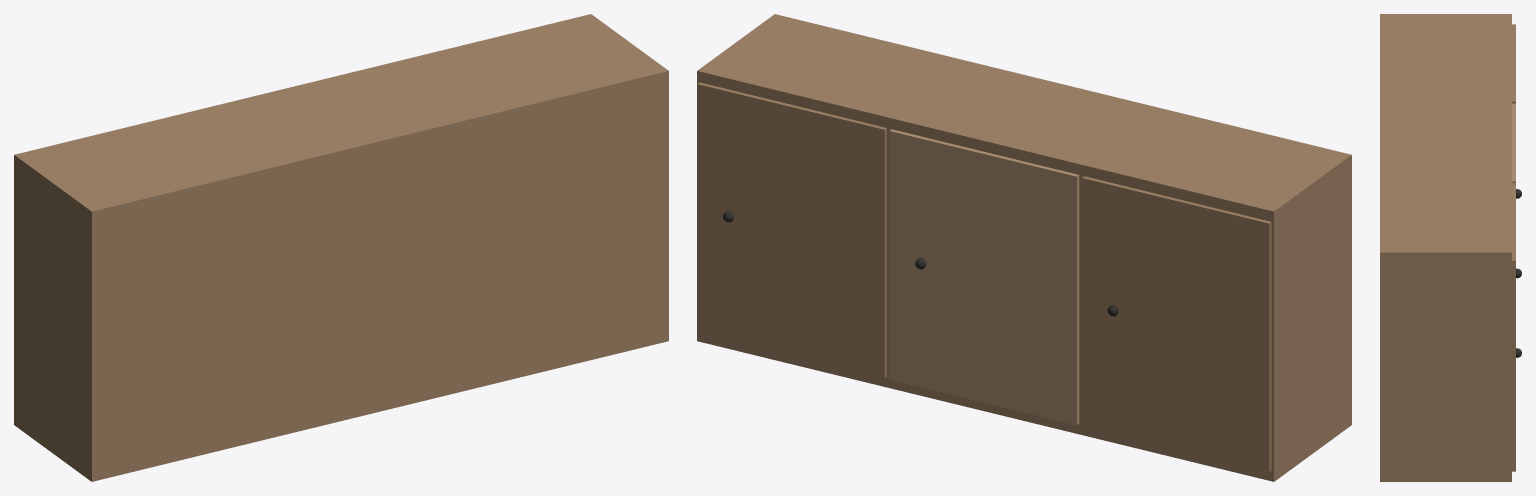
File: kanto.glb
3 renders of one model, left to right at view 1: azimuth 30°, elevation 25°; view 2: azimuth 150°, elevation 25°; view 3: azimuth 270°, elevation 25°, orthographic. The views are drawn at different scales.
Visible parts, largest first — view 1: cabinet; view 2: cabinet, door-2, door-1, door-3; view 3: cabinet, door-3, door-2, door-1.
Part boxes in pixels (box(x1,y1,x2,y2)): cabinet: box(14, 14, 668, 481); cabinet: box(697, 14, 1351, 481); door-2: box(889, 129, 1079, 425); door-1: box(1082, 176, 1271, 472); door-3: box(697, 82, 886, 378); cabinet: box(1380, 14, 1511, 481); door-3: box(1512, 183, 1515, 471); door-2: box(1512, 103, 1515, 183); door-1: box(1512, 24, 1515, 103).
Bounding box in the file's own units: 2.1 × 0.94 × 0.5271.
